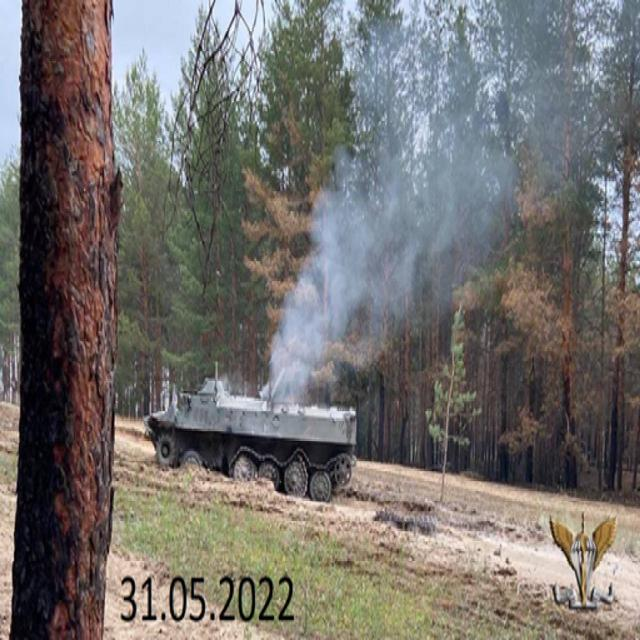APC-IFV: (136, 362, 360, 514)
